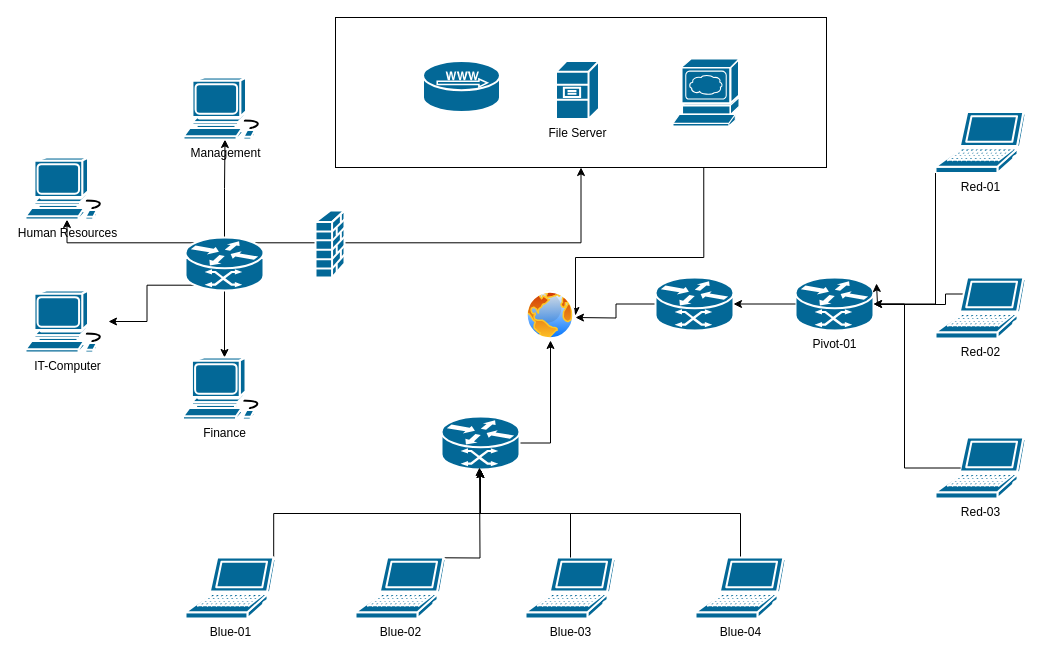
This 1043x657 diagram has some shape labels left out. Here are the shapes that lost their labels. From the top down, the box of each, then its label:
(422, 60, 500, 112): Web Service
(672, 58, 740, 126): WWW Server
(184, 236, 264, 291): Cyber Inc
(314, 209, 345, 278): Firewall
(654, 276, 734, 331): Pivot-02
(440, 415, 520, 470): Blue-Pivot
